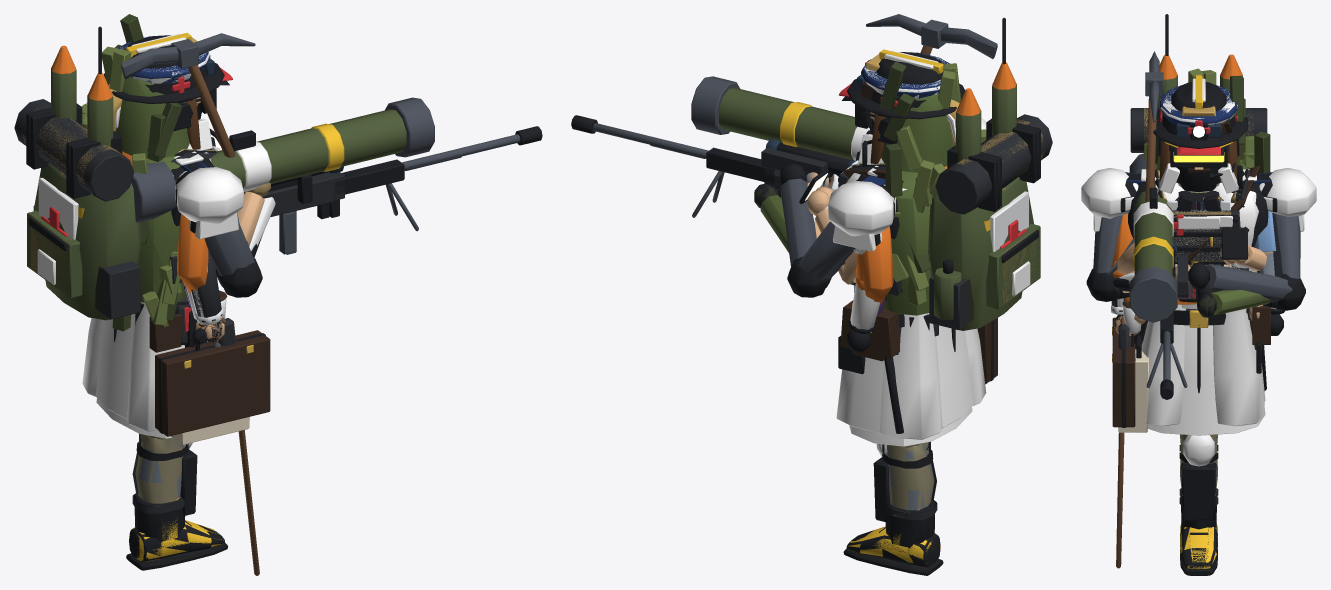
The model's file is characters.glb.
The picture shows the model from 3 angles, left to right: view 1: azimuth 30°, elevation 25°; view 2: azimuth 150°, elevation 25°; view 3: azimuth 270°, elevation 25°; orthographic projection. The views are drawn at different scales.
Visible parts, largest first — view 1: heavy_Body, sniper_Body, civ3_ArmR, rifle_Body, boss_Body, worker_Body, heavy_Shin, medic_Body, civ2_Shin, civ2_Body, civ8_Shin, civ7_ArmR (+6 smaller); view 2: heavy_Body, sniper_Body, boss_Body, rifle_Body, heavy_Shin, civ5_Body, cop_Body, worker_Body, medic_Body, civ2_Shin, civ2_Body, civ4_Body (+5 smaller); view 3: heavy_Body, boss_Body, civ5_Body, sniper_Body, heavy_Shin, worker_Body, cop_Body, civ3_ArmR, rifle_Body, swat_Body, merc_Body, civ4_Body (+11 smaller).
Boxes of the visible parts, box(x1,y1,x2,y2) form: heavy_Body: box(14, 33, 434, 345); sniper_Body: box(81, 14, 542, 331); civ3_ArmR: box(155, 250, 270, 436); rifle_Body: box(21, 26, 461, 332); boss_Body: box(82, 35, 224, 431); worker_Body: box(40, 32, 270, 352); heavy_Shin: box(126, 433, 227, 570); medic_Body: box(38, 57, 275, 346); civ2_Shin: box(135, 434, 184, 503); civ2_Body: box(122, 37, 208, 292); civ8_Shin: box(126, 494, 225, 569); civ7_ArmR: box(191, 267, 259, 575); heavy_Body: box(691, 50, 1052, 354); sniper_Body: box(571, 61, 986, 325); boss_Body: box(836, 52, 986, 439); rifle_Body: box(650, 17, 1044, 336); heavy_Shin: box(843, 442, 943, 575); civ5_Body: box(840, 81, 972, 446); cop_Body: box(761, 52, 949, 433); worker_Body: box(851, 14, 1027, 361); medic_Body: box(765, 61, 1028, 253); civ2_Shin: box(887, 442, 934, 510); civ2_Body: box(852, 54, 947, 306); civ4_Body: box(799, 83, 857, 284); heavy_Body: box(1081, 54, 1316, 342); boss_Body: box(1136, 82, 1265, 426); civ5_Body: box(1147, 123, 1271, 435); sniper_Body: box(1144, 68, 1270, 399); heavy_Shin: box(1179, 435, 1218, 575); worker_Body: box(1111, 51, 1262, 349); cop_Body: box(1122, 85, 1276, 390); civ3_ArmR: box(1111, 298, 1135, 427); rifle_Body: box(1122, 14, 1270, 343); swat_Body: box(1113, 165, 1282, 349); merc_Body: box(1120, 122, 1272, 307); civ4_Body: box(1177, 147, 1266, 271).
Bounding box in the file's own units: 1.83 × 2.08 × 0.8825.
